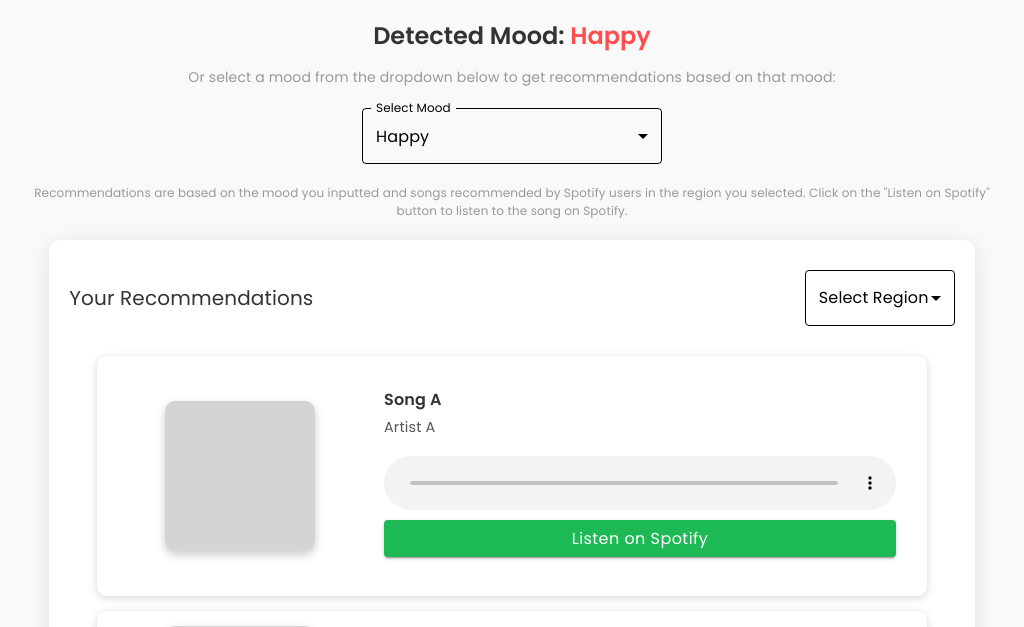
Test: <ResultsPage /> › updates recommendations when mood is changed
The width and height of the screenshot is (1024, 627).
Press the mouse on the dropdown labelled "Happy" at (403, 136), box [376,124,429,148]
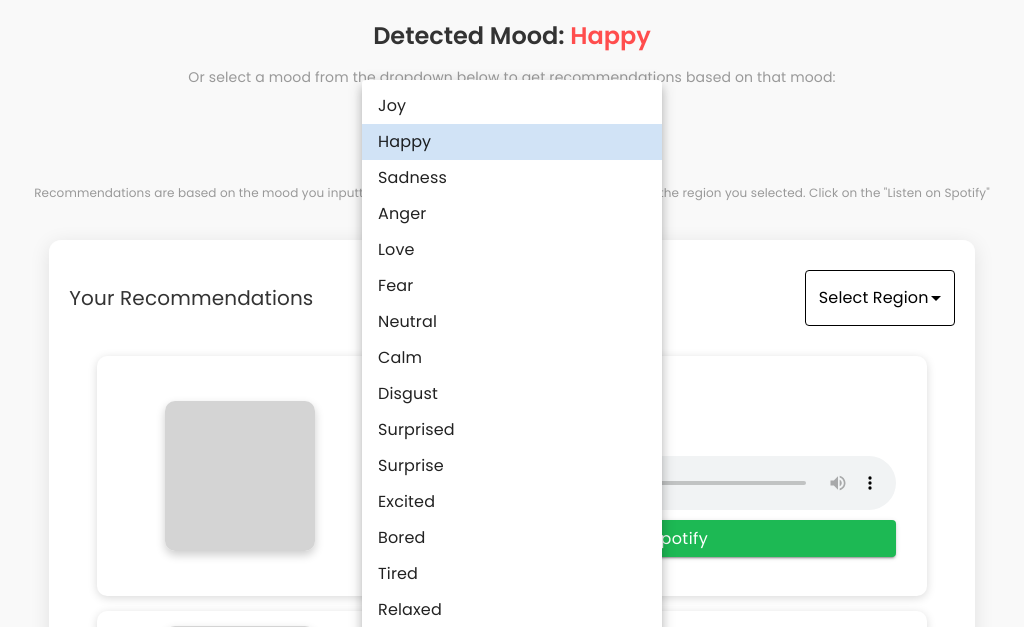
Click the option "Joy" at (392, 106), box [378,94,406,117]
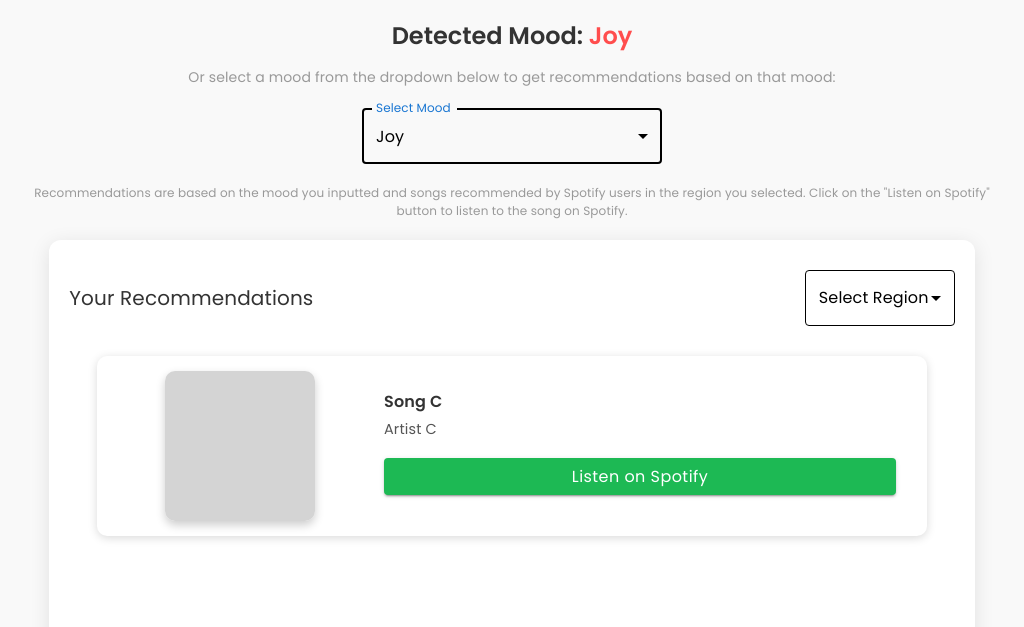
Now the heading "Song C" is shown, box [384,390,442,413]
Now the text "Artist C" is shown, box [384,419,437,439]
